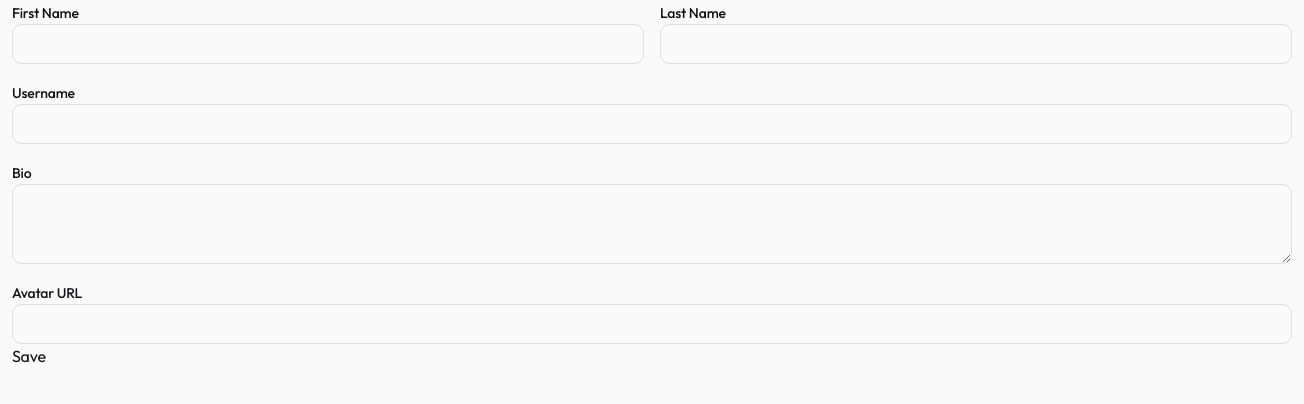
PersonalInfo username › a failed availability request is not reported as "not available"
The image size is (1304, 404).
In the field labelled "Username": point(652, 124) top-left (12, 104), bottom-right (1292, 144), type "grace_h"
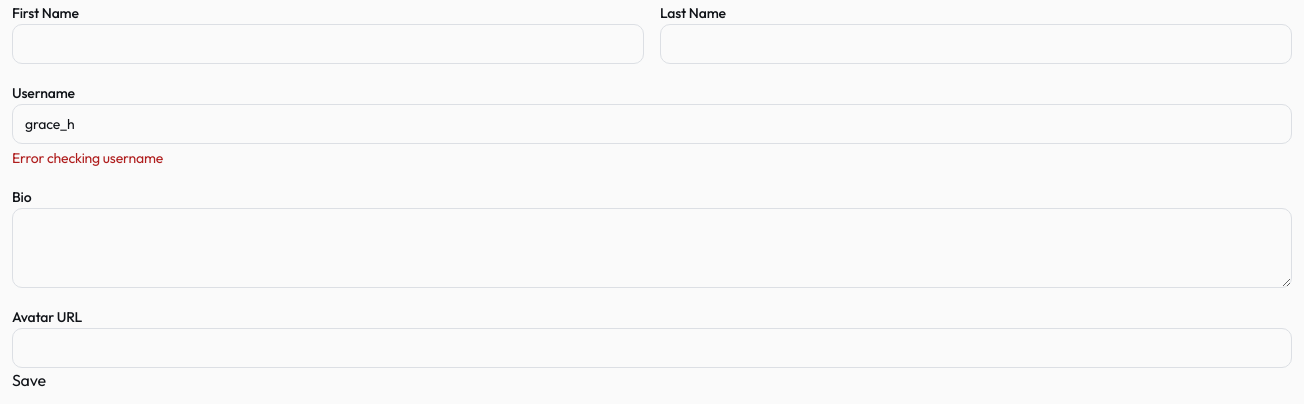
Check: the text "Error checking username" is shown, box top-left (12, 149), bottom-right (163, 167)
